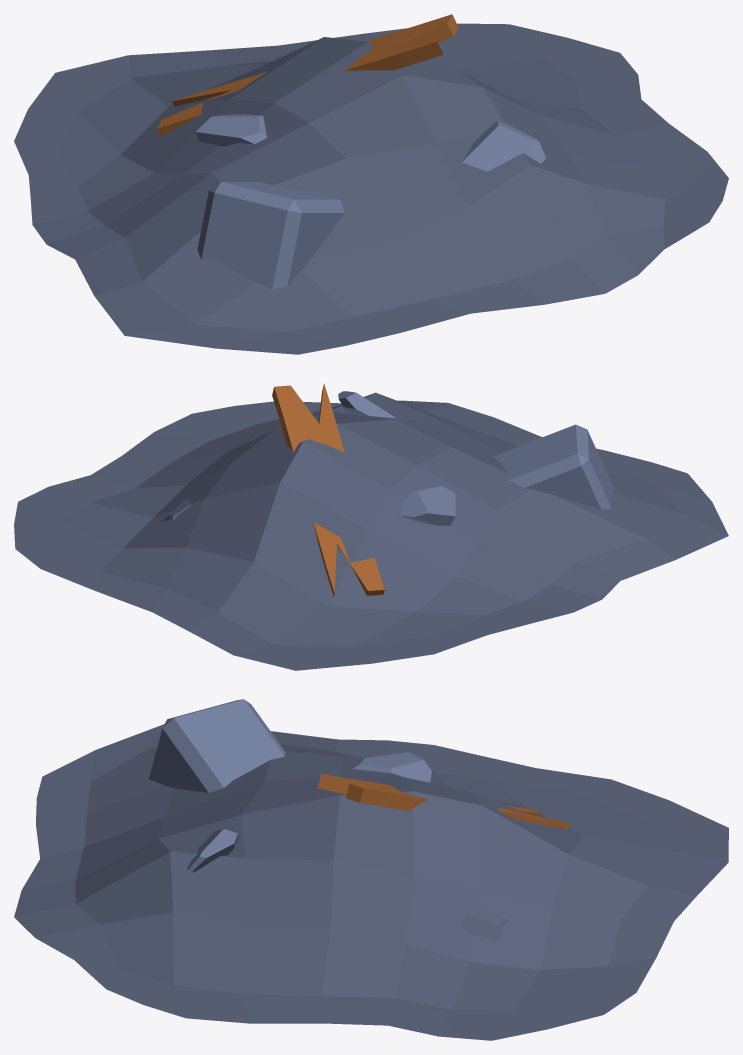
Rendered from rubble_003.glb.
3 renders of one model, top to bottom at view 1: azimuth 30°, elevation 25°; view 2: azimuth 150°, elevation 25°; view 3: azimuth 270°, elevation 25°, orthographic. The views are drawn at different scales.
Visible parts, largest first — view 1: debris; view 2: debris; view 3: debris.
Boxes of the visible parts, <box> form: debris: <box>14,14,728,354</box>; debris: <box>14,383,728,670</box>; debris: <box>14,699,728,1040</box>.
Size of the model in its own units: 2.21 by 0.6353 by 2.11.
